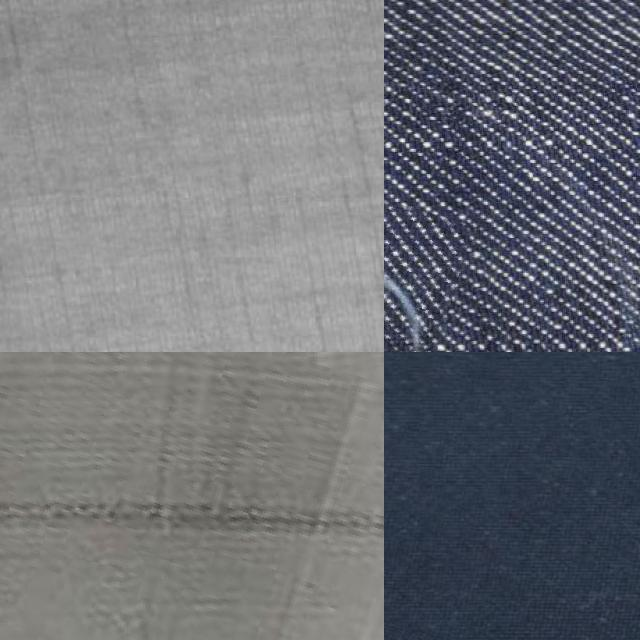Thread_other: (0, 352, 384, 640), (384, 176, 463, 352)
